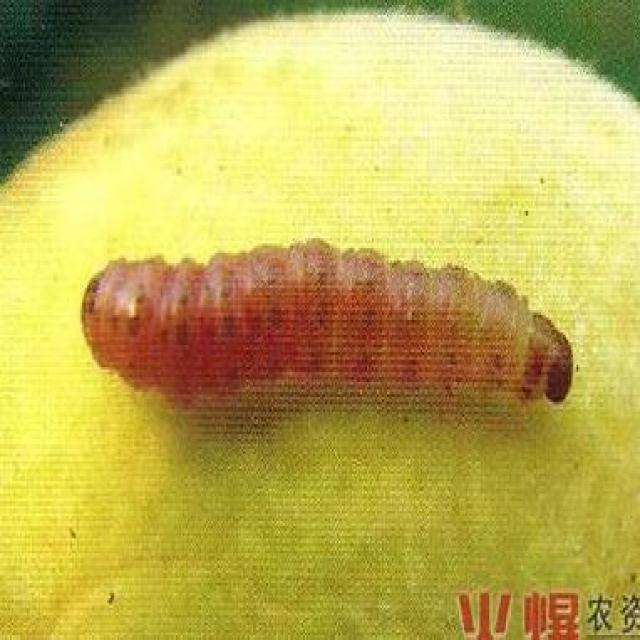peach borer: (84, 243, 581, 424)
